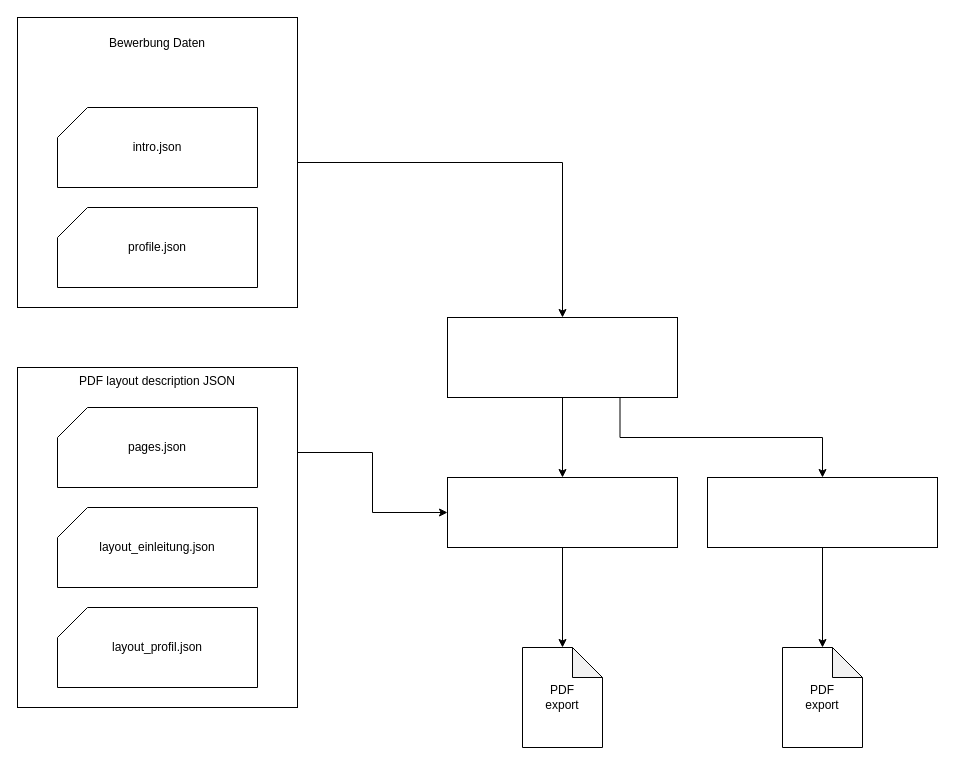
The diagram is 955 pixels wide and 765 high, and some of its shapes have lost their labels. The centre of each missing label's shape, as x and y in pixels:
"PDFLayout" goes at (562,512).
"PortfolioDataProvider" goes at (562,357).
"Web app controllers" goes at (822,512).
